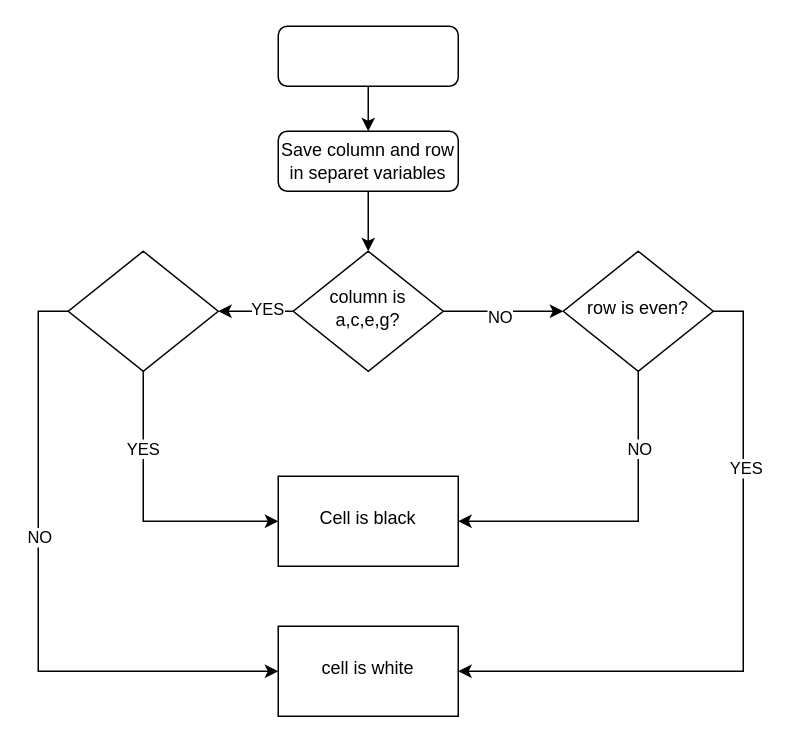
Image size: 788x743. Some labels were removed from this diagram. The shapes that lost their labels are listed below. From the top down, each one's centre as x and y in pixels, then its label:
At point 367,55: "Take user input".
At point 142,310: "row is odd".
